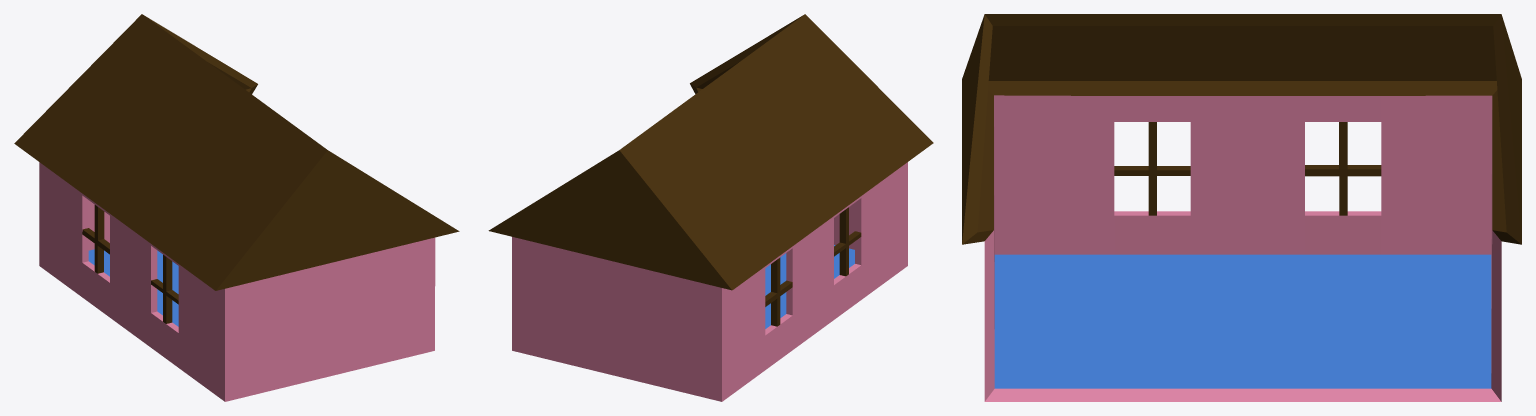
Rendered from House_Inside.fbx.
3 views of the same model, side by side, from view 1: azimuth 30°, elevation 25°; view 2: azimuth 150°, elevation 25°; view 3: azimuth 270°, elevation 25° (orthographic). The views are drawn at different scales.
Visible parts, largest first — view 1: House_Inside; view 2: House_Inside; view 3: House_Inside.
Boxes of the visible parts, left/top/right/bottom form: House_Inside: left=14, top=14, right=459, bottom=401; House_Inside: left=488, top=14, right=933, bottom=401; House_Inside: left=962, top=14, right=1521, bottom=401.
Size of the model in its own units: 1239 by 1100 by 1770.
